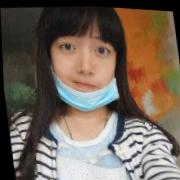WRONG: (46, 16, 122, 111)
